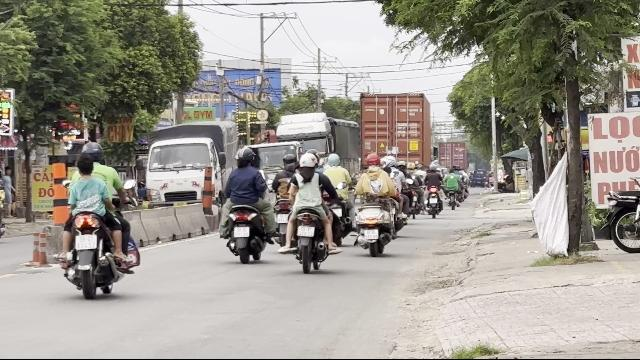helmet: (80, 141, 102, 161), (298, 153, 318, 175), (233, 146, 254, 166)
licenseplate: (75, 234, 97, 250), (298, 226, 314, 236), (234, 227, 248, 238)
motorcyclist: (58, 140, 140, 298), (217, 146, 273, 262), (286, 150, 338, 272)
nohelmet: (74, 154, 94, 176)
